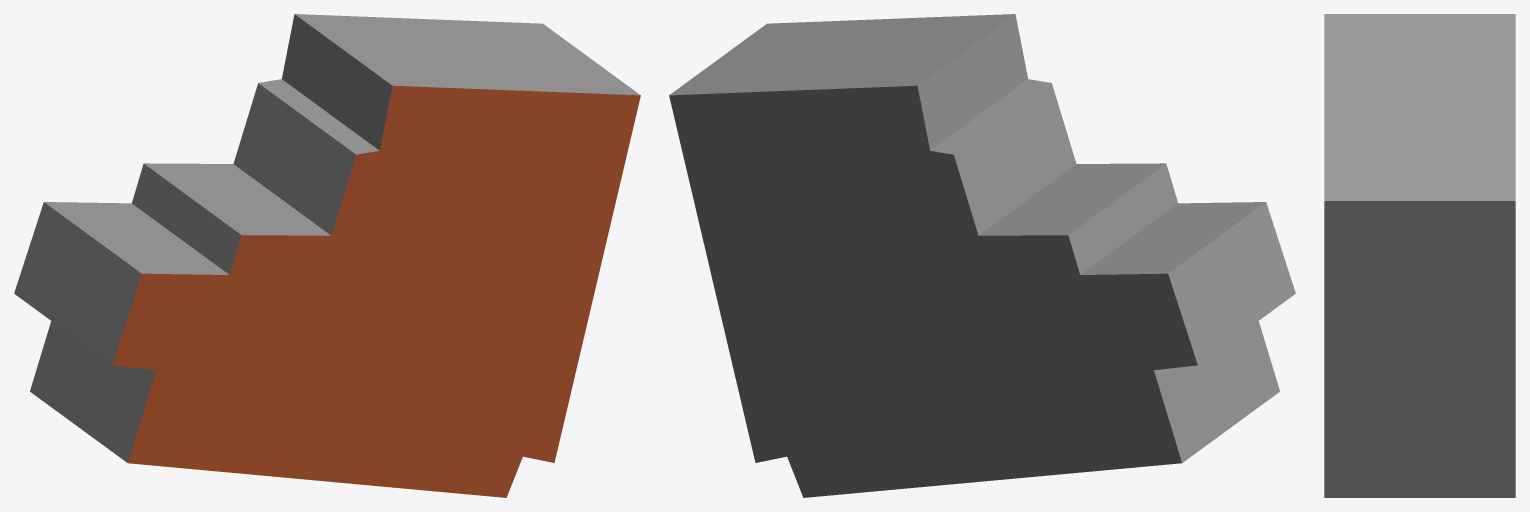
The model's file is construction_0456_assumed_A_Casa_h6m.obj.
The picture shows the model from 3 angles, left to right: view 1: azimuth 30°, elevation 25°; view 2: azimuth 150°, elevation 25°; view 3: azimuth 270°, elevation 25°; orthographic projection. The views are drawn at different scales.
Parts seen in each view (by area): view 1: construction_0456_assumed_A_Casa; view 2: construction_0456_assumed_A_Casa; view 3: construction_0456_assumed_A_Casa.
Boxes of the visible parts, x1,y1,x2,y2 form: construction_0456_assumed_A_Casa: (14,14,640,497); construction_0456_assumed_A_Casa: (669,14,1295,497); construction_0456_assumed_A_Casa: (1324,14,1515,497).
Size of the model in its own units: 18.69 by 14.86 by 6.
